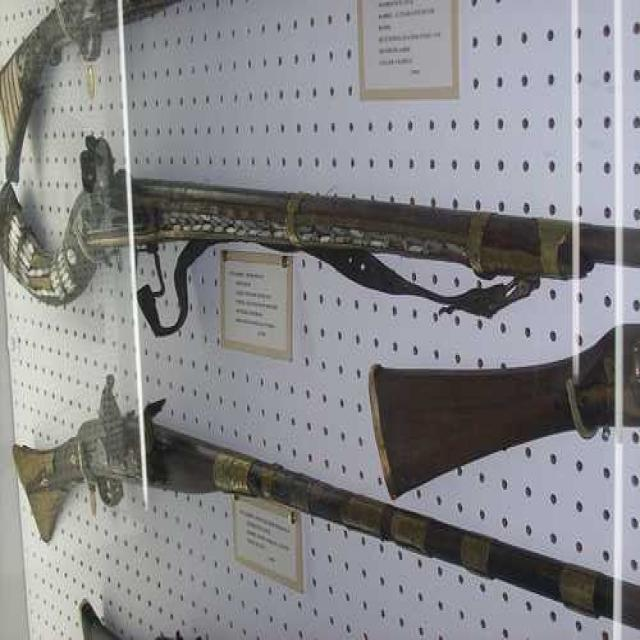heavyweapon: (10, 375, 640, 640), (1, 150, 637, 329)
